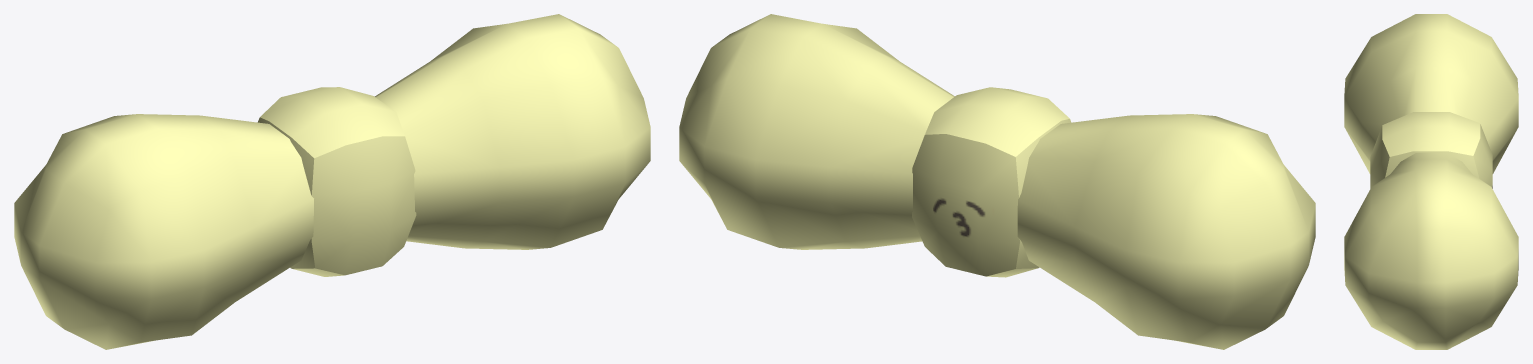
File: Oden_Shirataki.gltf
The picture shows the model from 3 angles, left to right: view 1: azimuth 30°, elevation 25°; view 2: azimuth 150°, elevation 25°; view 3: azimuth 270°, elevation 25°; orthographic projection. The views are drawn at different scales.
Visible parts, largest first — view 1: Oden_Shirataki; view 2: Oden_Shirataki; view 3: Oden_Shirataki.
Boxes of the visible parts, x1,y1,x2,y2 form: Oden_Shirataki: [14, 14, 650, 349]; Oden_Shirataki: [679, 14, 1315, 349]; Oden_Shirataki: [1344, 14, 1518, 349].
Bounding box in the file's own units: 3.24 × 1.08 × 1.05.
Materials: 1 (1 with a texture image).
